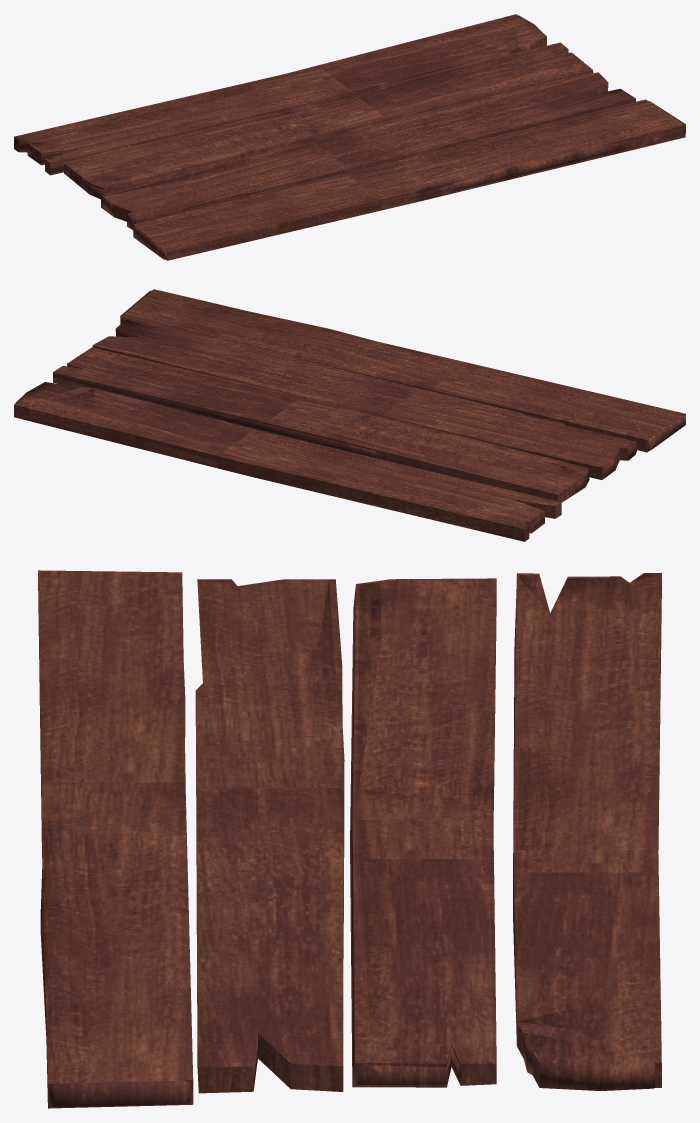
The model's file is wood_plank.fbx.
3 renders of one model, top to bottom at view 1: azimuth 30°, elevation 25°; view 2: azimuth 150°, elevation 25°; view 3: azimuth 270°, elevation 25°, orthographic. The views are drawn at different scales.
Parts seen in each view (by area): view 1: BSwap_WoodenPlanks_01:Mesh; view 2: BSwap_WoodenPlanks_01:Mesh; view 3: BSwap_WoodenPlanks_01:Mesh.
Boxes of the visible parts, x1,y1,x2,y2 form: BSwap_WoodenPlanks_01:Mesh: (14, 14, 685, 260); BSwap_WoodenPlanks_01:Mesh: (14, 289, 685, 541); BSwap_WoodenPlanks_01:Mesh: (38, 570, 661, 1108).
Size of the model in its own units: 80.73 by 2.5 by 41.55.
Materials: 1 (1 with a texture image).
